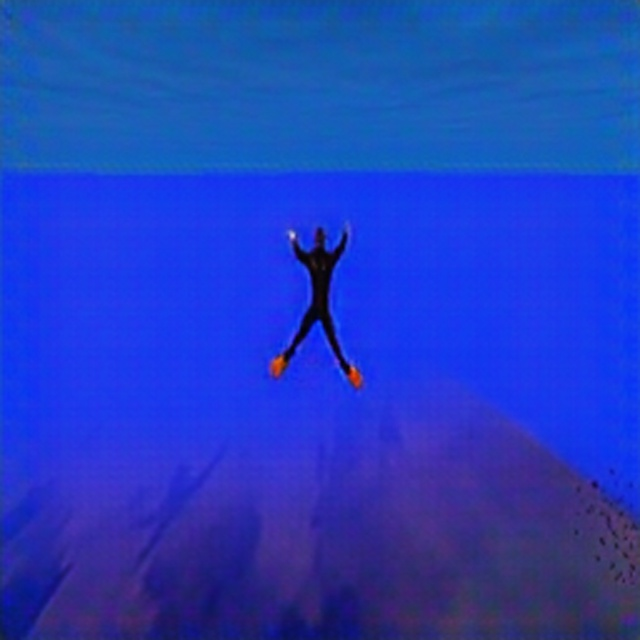diver: (269, 213, 365, 392)
